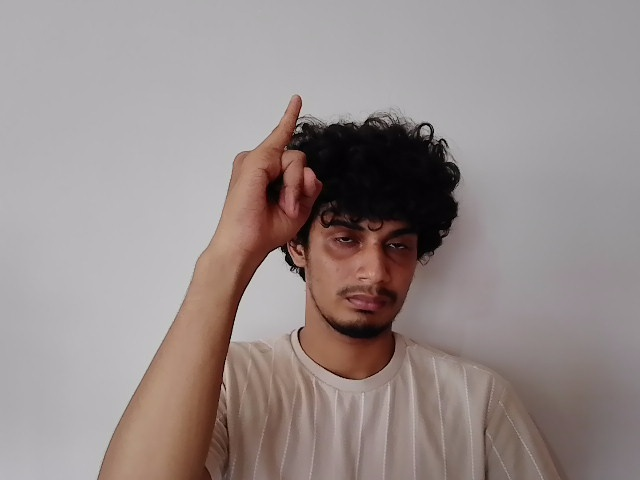bad: (217, 95, 325, 249)
